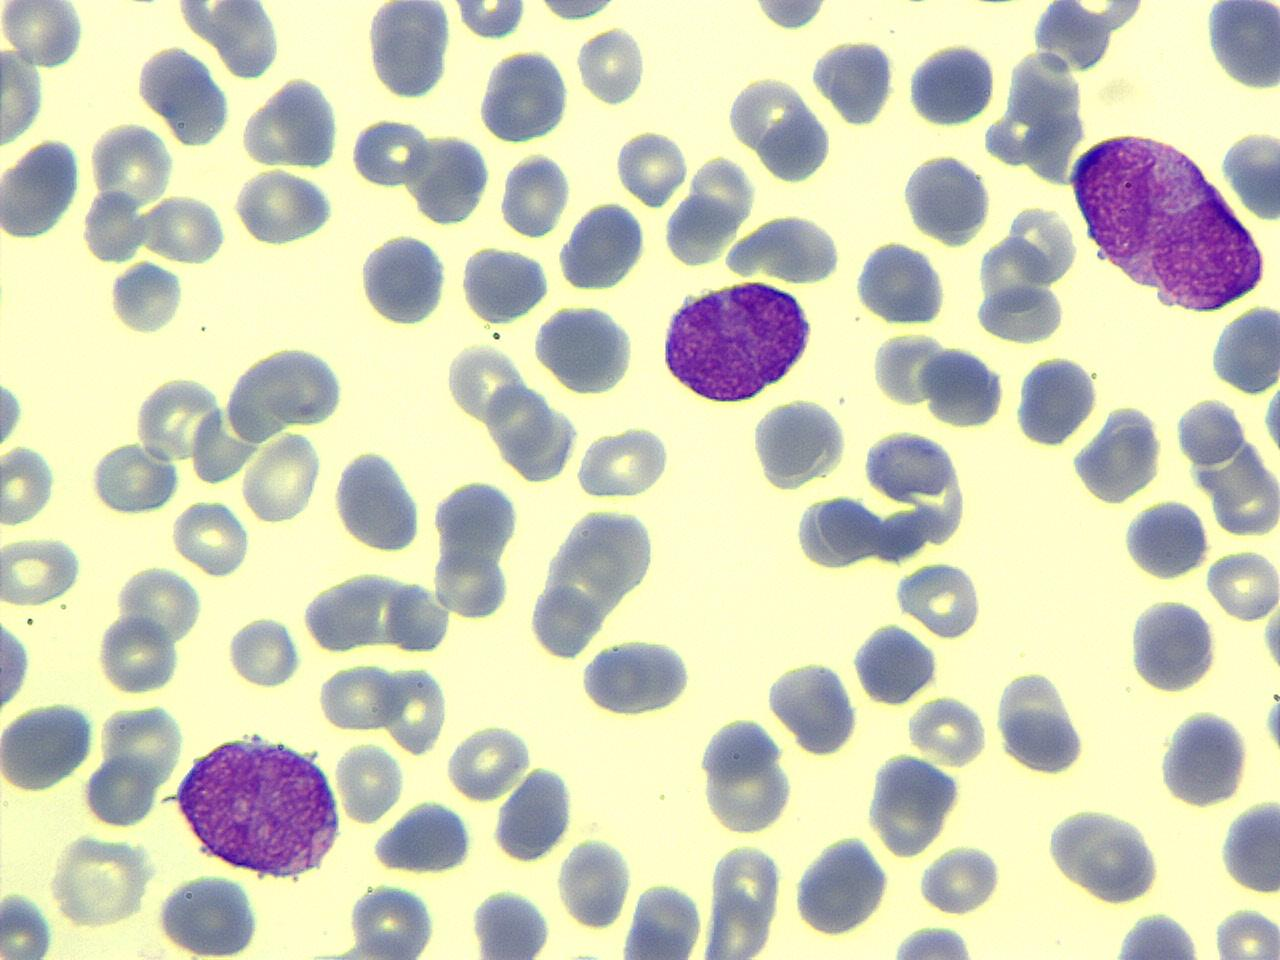Platelets: (749, 392, 844, 494), (356, 230, 450, 326), (996, 682, 1089, 776), (1010, 352, 1098, 450), (1121, 495, 1211, 582), (812, 36, 898, 128), (1201, 2, 1279, 92), (107, 260, 184, 337), (1222, 125, 1280, 226), (1259, 600, 1280, 680), (1260, 696, 1280, 756)
RBC: (1046, 804, 1156, 899), (531, 301, 639, 396), (866, 750, 959, 860), (50, 830, 153, 930), (748, 392, 850, 492), (994, 671, 1089, 776), (476, 46, 572, 147), (764, 656, 860, 758), (154, 870, 264, 958), (243, 75, 344, 168), (898, 150, 994, 247), (1124, 596, 1218, 694), (1, 134, 85, 241), (850, 237, 951, 324), (724, 211, 843, 283), (232, 166, 338, 246), (904, 38, 997, 129), (248, 344, 346, 430), (240, 428, 322, 528), (88, 117, 175, 210), (410, 129, 492, 226), (572, 422, 672, 500), (1121, 495, 1211, 581), (556, 834, 633, 932), (116, 562, 204, 646), (920, 342, 1004, 431), (894, 558, 984, 640), (459, 244, 550, 325), (88, 439, 181, 516), (347, 881, 436, 960), (917, 838, 1005, 918), (96, 612, 180, 694), (1209, 301, 1279, 399), (498, 148, 572, 240), (82, 746, 160, 831), (447, 720, 528, 801), (350, 113, 432, 191), (382, 659, 447, 757), (316, 659, 402, 734), (144, 192, 228, 266), (614, 126, 688, 210), (1220, 794, 1280, 896), (469, 886, 555, 958), (225, 612, 304, 690), (172, 497, 249, 578), (577, 23, 648, 108), (974, 281, 1065, 346), (0, 534, 81, 607), (1222, 126, 1280, 226), (1203, 546, 1279, 622), (2, 0, 85, 69), (1100, 910, 1210, 958), (0, 440, 58, 529), (0, 42, 47, 148), (0, 887, 58, 957), (1211, 906, 1280, 960), (0, 606, 33, 718), (886, 922, 982, 960), (450, 0, 528, 40), (748, 0, 830, 32)
WBC: (0, 0, 595, 311), (583, 0, 1245, 230), (1065, 124, 1279, 313), (169, 727, 346, 878), (658, 274, 818, 404), (789, 830, 893, 938), (135, 41, 233, 149), (331, 444, 425, 555), (533, 297, 636, 398), (475, 45, 574, 148), (153, 870, 266, 960), (751, 391, 850, 493), (1155, 706, 1251, 810), (577, 636, 694, 718), (764, 654, 860, 754), (3, 134, 88, 246), (357, 228, 452, 328), (1125, 594, 1217, 696), (899, 150, 994, 248), (556, 198, 650, 293), (1, 700, 99, 792), (851, 236, 950, 326), (365, 0, 454, 100), (491, 763, 577, 865), (904, 38, 996, 131), (370, 799, 477, 877), (849, 620, 943, 708), (1121, 494, 1211, 583), (755, 96, 833, 187), (1217, 794, 1279, 896), (1099, 909, 1211, 958), (0, 611, 33, 717)
